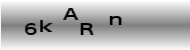6: (24, 22, 36, 36)
A: (61, 7, 79, 20)
R: (78, 22, 94, 36)
k: (39, 20, 52, 33)
n: (108, 14, 122, 25)
